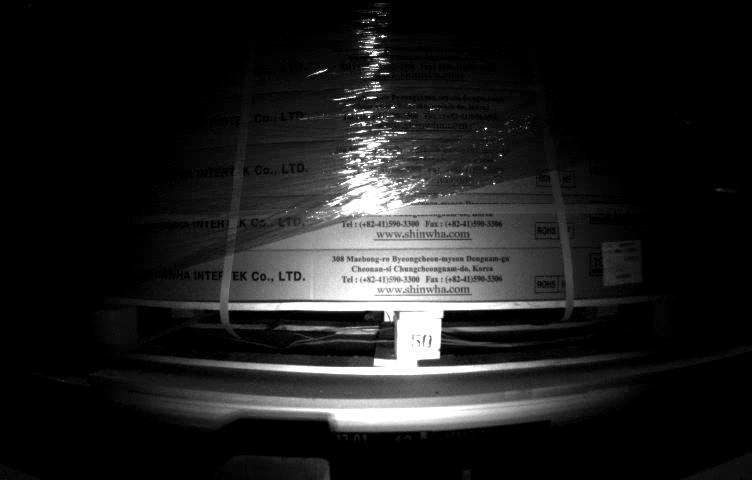True Barcode: (598, 238, 649, 284)
